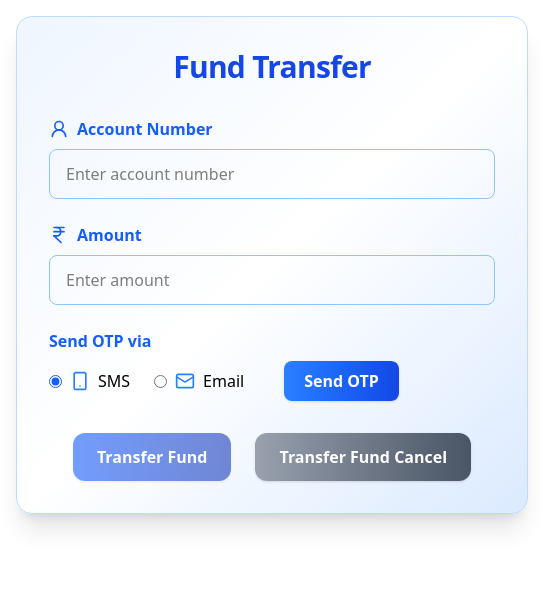
Scenario: FundTransfer Component › shows validation errors for empty inputs when sending OTP
Step 1. Click the button "Send OTP" → (342, 381), box [284,361,399,401]
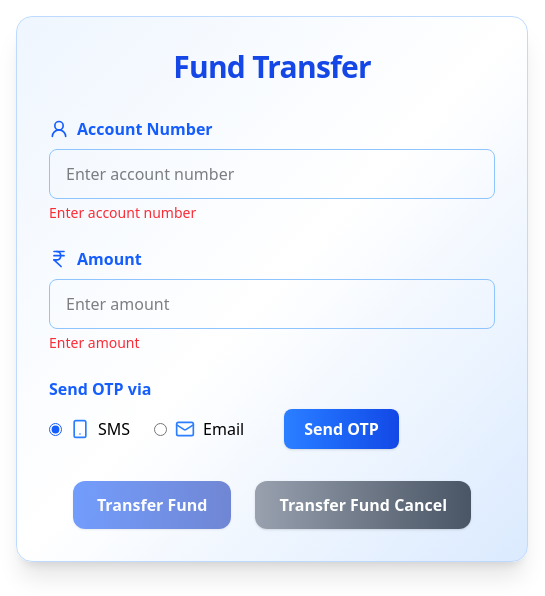
Check: the text "Enter account number" is shown, box [49,203,196,222]
Check: the text "Enter amount" is shown, box [49,333,140,352]
